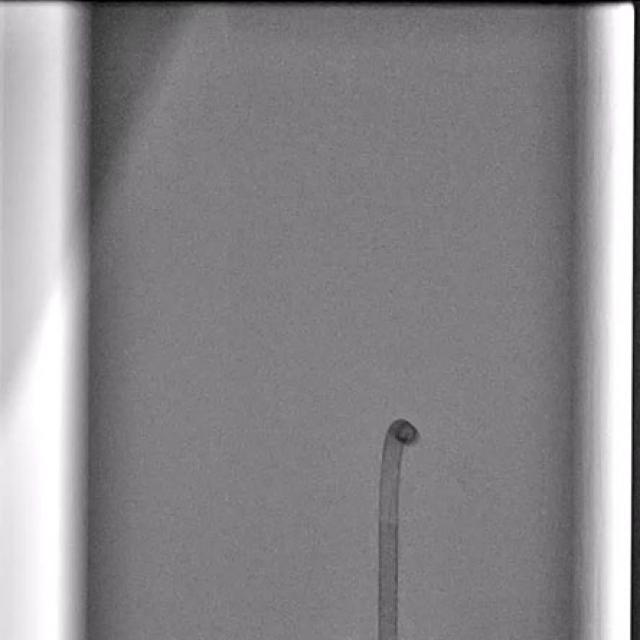bend: (380, 506, 398, 522)
entry: (379, 633, 397, 640)
marker: (395, 422, 419, 446)
tip: (396, 422, 418, 445)
